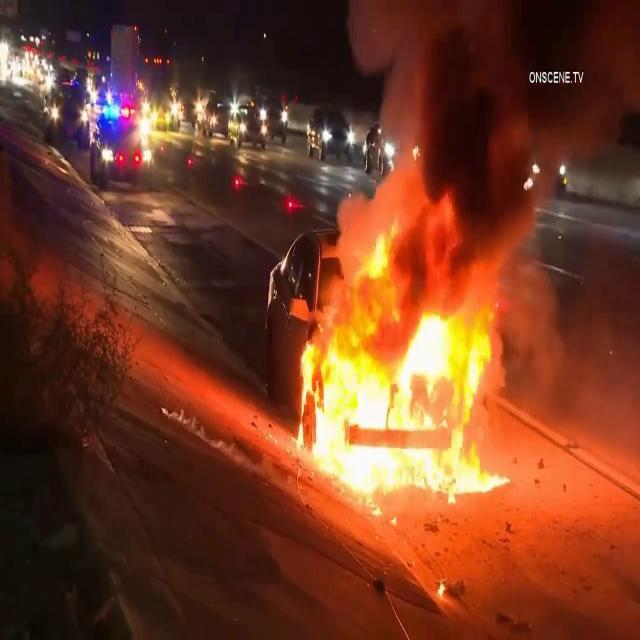Fire: (300, 306, 504, 500)
Smoke: (329, 0, 640, 310)
